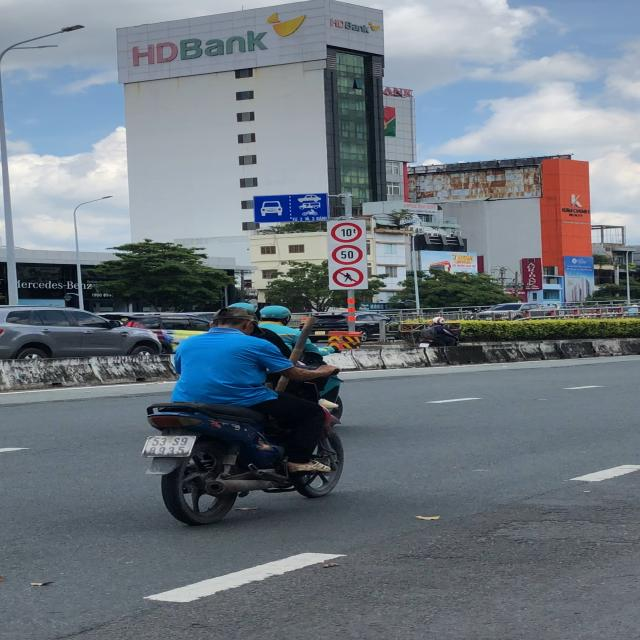Bien bao cam nguoi di bo: (329, 266, 366, 289)
Bien bao toc do toi da cho phep: (329, 244, 369, 265)
